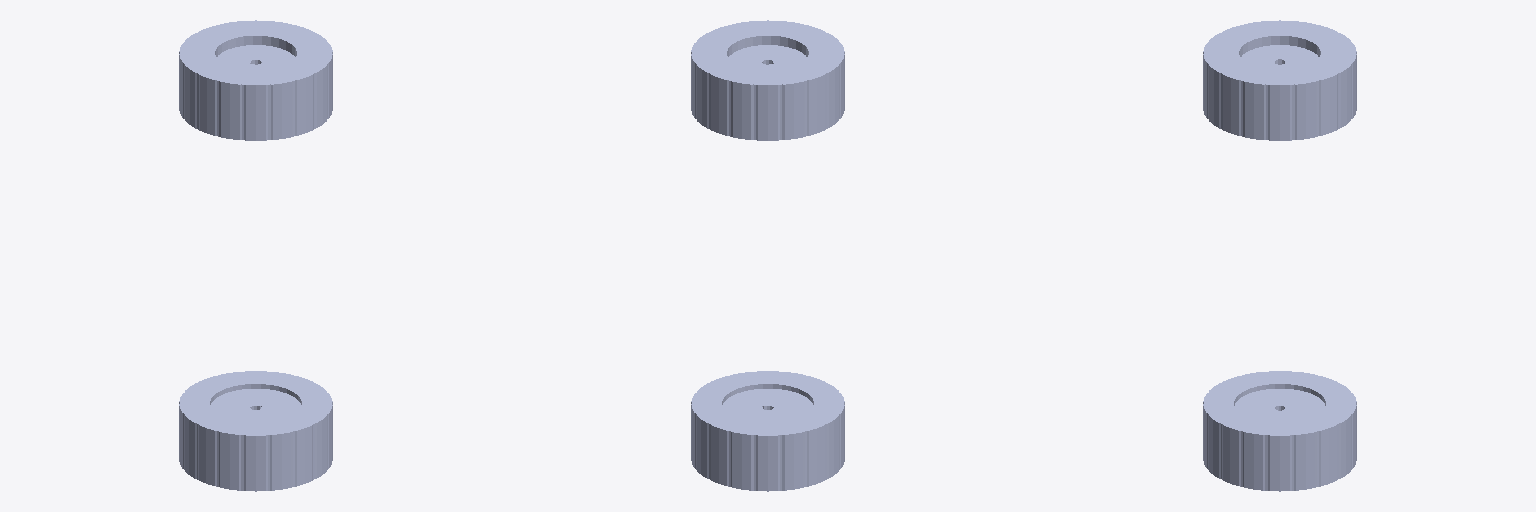
URDF robot description (khung xe (1).sldasm):
<?xml version="1.0" encoding="utf-8"?>
<!-- This URDF was automatically created by SolidWorks to URDF Exporter! Originally created by [author] ([email redacted]) 
     Commit Version: 1.6.0-4-g7f85cfe  Build Version: 1.6.7995.38578
     For more information, please see http://wiki.ros.org/sw_urdf_exporter -->
<robot
  name="khung xe (1).sldasm">
  <link
    name="base_link">
    <inertial>
      <origin
        xyz="-0.0016911 0.060515 -0.0040379"
        rpy="0 0 0" />
      <mass
        value="5.4519" />
      <inertia
        ixx="0.019725"
        ixy="-0.00045193"
        ixz="1.0484E-08"
        iyy="0.03498"
        iyz="1.3507E-06"
        izz="0.022321" />
    </inertial>
    <visual>
      <origin
        xyz="0 0 0"
        rpy="0 0 0" />
      <geometry>
        <mesh
          filename="package://khung xe (1).sldasm/meshes/base_link.STL" />
      </geometry>
      <material
        name="">
        <color
          rgba="1 1 1 1" />
      </material>
    </visual>
    <collision>
      <origin
        xyz="0 0 0"
        rpy="0 0 0" />
      <geometry>
        <mesh
          filename="package://khung xe (1).sldasm/meshes/base_link.STL" />
      </geometry>
    </collision>
  </link>
  <link
    name="left_link">
    <inertial>
      <origin
        xyz="-8.88180099481439E-07 2.77555756156289E-17 0.0203827214868579"
        rpy="0 0 0" />
      <mass
        value="0.968975774829785" />
      <inertia
        ixx="0.00170115560343656"
        ixy="1.88539788642714E-18"
        ixz="1.82218282057685E-09"
        iyy="0.00170115056996547"
        iyz="4.80558046232636E-18"
        izz="0.00288276759907122" />
    </inertial>
    <visual>
      <origin
        xyz="0 0 0"
        rpy="0 0 0" />
      <geometry>
        <mesh
          filename="package://khung xe (1).sldasm/meshes/left_link.STL" />
      </geometry>
      <material
        name="">
        <color
          rgba="0.792156862745098 0.819607843137255 0.933333333333333 1" />
      </material>
    </visual>
    <collision>
      <origin
        xyz="0 0 0"
        rpy="0 0 0" />
      <geometry>
        <mesh
          filename="package://khung xe (1).sldasm/meshes/left_link.STL" />
      </geometry>
    </collision>
  </link>
  <joint
    name="left_link"
    type="continuous">
    <origin
      xyz="-0.00166943518023849 0.0202499999999948 -0.213138302026856"
      rpy="0 0 0" />
    <parent
      link="base_link" />
    <child
      link="left_link" />
    <axis
      xyz="0 0 1" />
  </joint>
  <link
    name="right_link">
    <inertial>
      <origin
        xyz="0.000131413454829796 8.65973959207622E-15 -0.0203827214868589"
        rpy="0 0 0" />
      <mass
        value="0.968975774829785" />
      <inertia
        ixx="0.00170115560343656"
        ixy="-1.97842337708994E-18"
        ixz="1.82218282863064E-09"
        iyy="0.00170115056996547"
        iyz="-1.27392630695615E-19"
        izz="0.00288276759907123" />
    </inertial>
    <visual>
      <origin
        xyz="0 0 0"
        rpy="0 0 0" />
      <geometry>
        <mesh
          filename="package://khung xe (1).sldasm/meshes/right_link.STL" />
      </geometry>
      <material
        name="">
        <color
          rgba="0.792156862745098 0.819607843137255 0.933333333333333 1" />
      </material>
    </visual>
    <collision>
      <origin
        xyz="0 0 0"
        rpy="0 0 0" />
      <geometry>
        <mesh
          filename="package://khung xe (1).sldasm/meshes/right_link.STL" />
      </geometry>
    </collision>
  </link>
  <joint
    name="right_link"
    type="continuous">
    <origin
      xyz="-0.00166943518023559 0.0202499999999948 0.204334897973151"
      rpy="0 0 0" />
    <parent
      link="base_link" />
    <child
      link="right_link" />
    <axis
      xyz="0 0 -1" />
  </joint>
</robot>

--- Facts derived from the render (not from the file) ---
3 views of the same robot in one strip: view 1: azimuth 30°, elevation 25°; view 2: azimuth 150°, elevation 25°; view 3: azimuth 270°, elevation 25° (orthographic).
Robot: khung xe (1).sldasm — 3 links, 2 joints (2 continuous); root link base_link; default pose: every joint at zero.
Links seen in each view (by area): view 1: left_link, right_link; view 2: right_link, left_link; view 3: left_link, right_link.
Boxes of the visible links, x1,y1,x2,y2 form: left_link: (179,371,332,491); right_link: (179,20,332,140); right_link: (691,20,844,140); left_link: (691,371,844,491); left_link: (1203,371,1356,491); right_link: (1203,20,1356,140).
Bounding box of the posed robot: 0.1501 × 0.1499 × 0.4375 m (x, y, z).
2 mesh visuals loaded from 3 distinct referenced files (2 binary STL); not drawn: 1 (reference not matched to a file when rendering).
